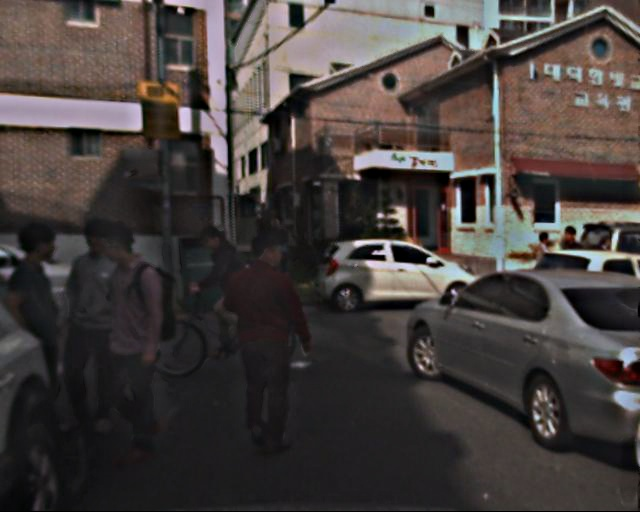person: (83, 228, 186, 450), (48, 217, 150, 436), (221, 236, 314, 456), (5, 226, 104, 415), (196, 227, 249, 356), (529, 232, 559, 306), (557, 226, 587, 297), (266, 215, 296, 284)
